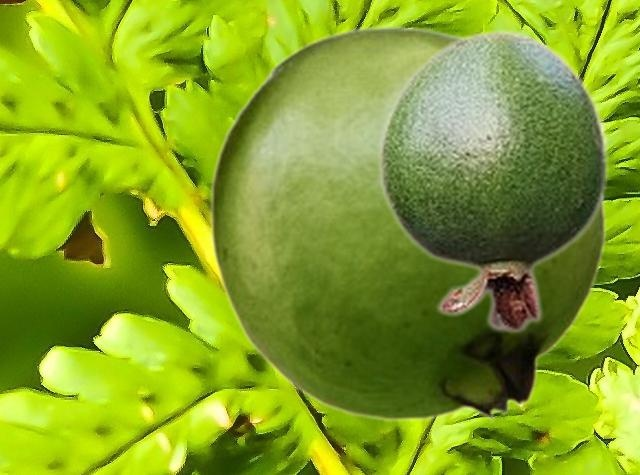guava: (208, 25, 606, 422), (377, 28, 610, 334)
